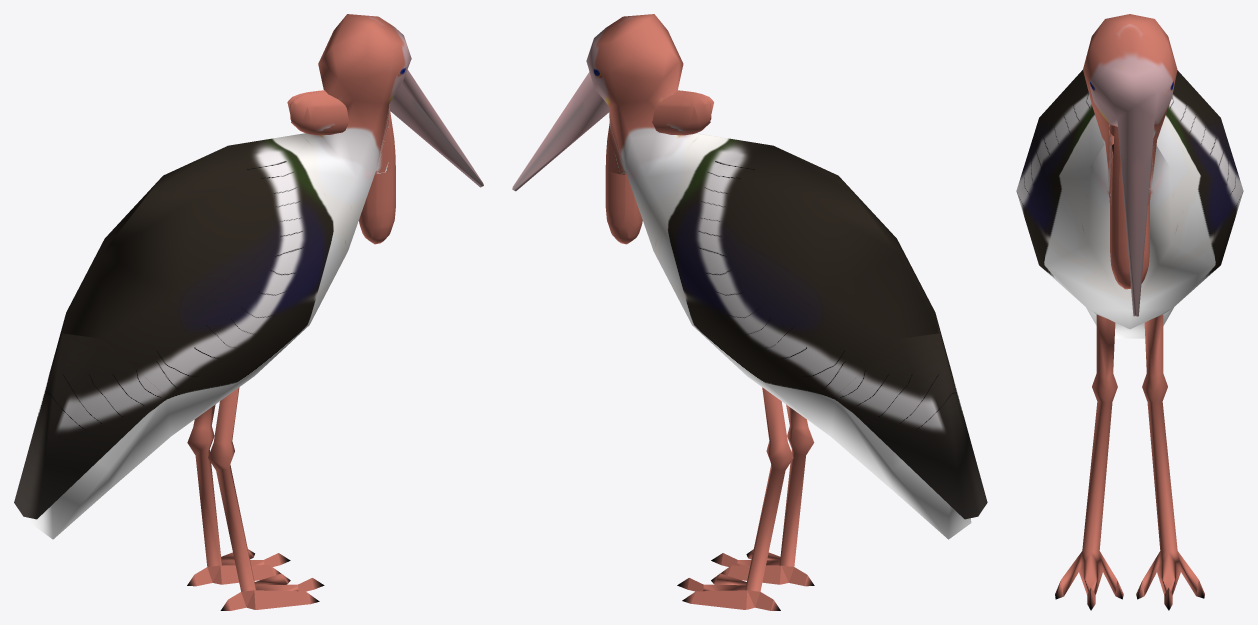
The model's file is GreaterAdjutant.glb.
3 renders of one model, left to right at view 1: azimuth 30°, elevation 25°; view 2: azimuth 150°, elevation 25°; view 3: azimuth 270°, elevation 25°, orthographic. The views are drawn at different scales.
Parts seen in each view (by area): view 1: Stork; view 2: Stork; view 3: Stork.
Boxes of the visible parts, box(x1,y1,x2,y2) form: Stork: box(14, 14, 483, 610); Stork: box(512, 14, 987, 610); Stork: box(1016, 14, 1243, 610).
Bounding box in the file's own units: 0.9588 × 1.07 × 0.3543.
Materials: 1 (1 with a texture image).
